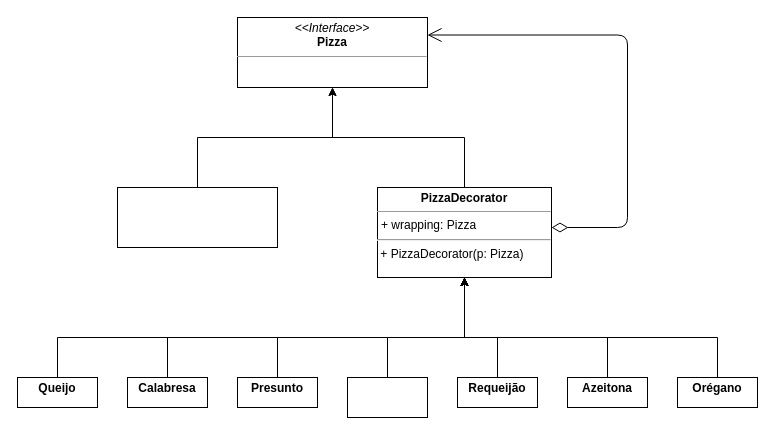
The diagram is 775 pixels wide and 435 high, and some of its shapes have lost their labels. Each missing label, with the box of its shape:
Molho De Tomate: (346, 376, 428, 418)
Pão + Pão(): (116, 186, 278, 248)
